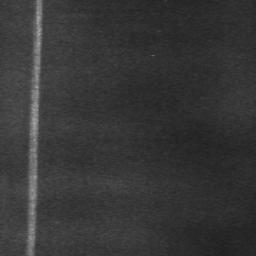Bright scratch: (27, 0, 43, 256)
